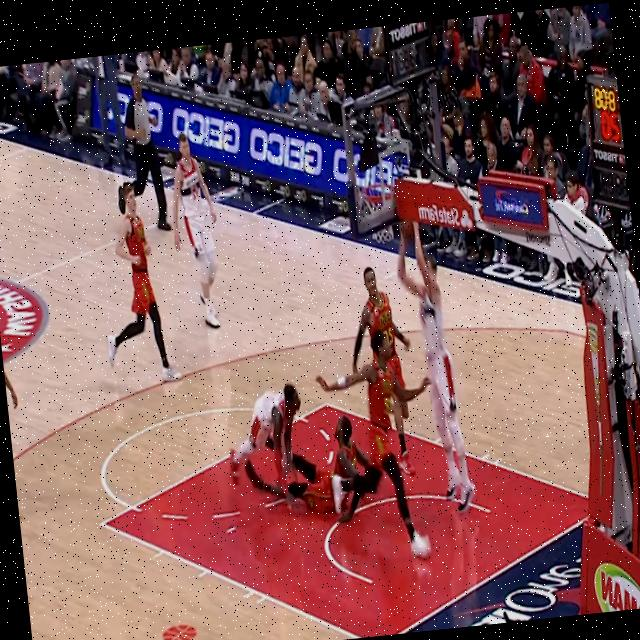foul: (185, 274, 428, 556)
